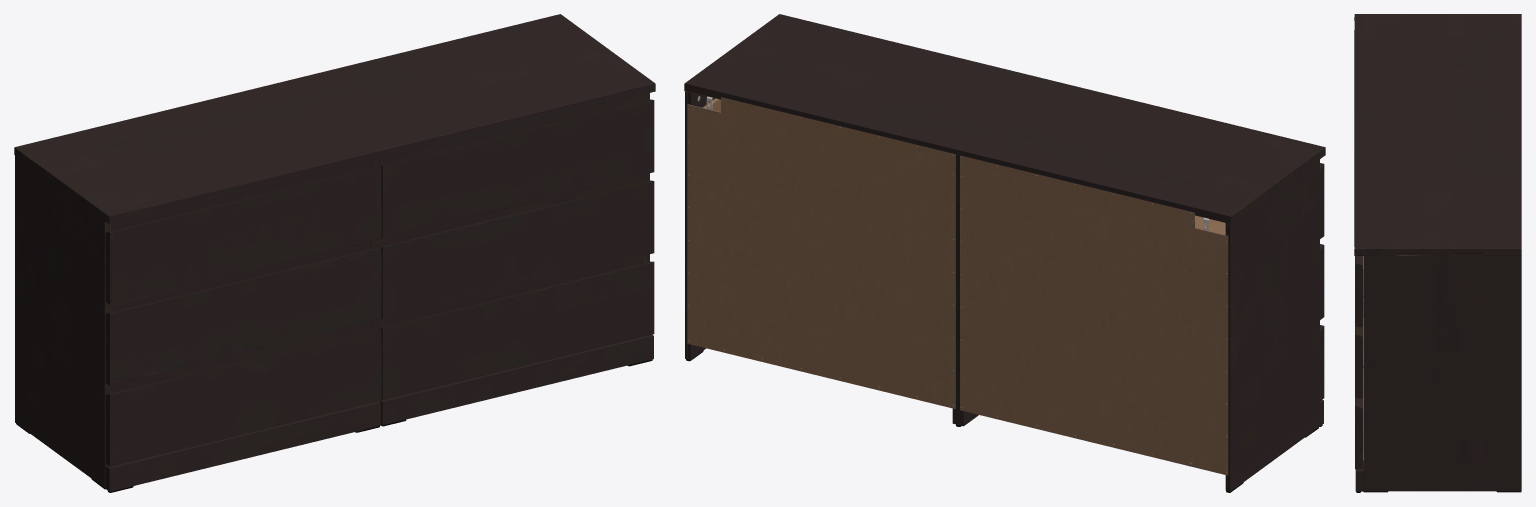
3 renders of one model, left to right at view 1: azimuth 30°, elevation 25°; view 2: azimuth 150°, elevation 25°; view 3: azimuth 270°, elevation 25°, orthographic. The views are drawn at different scales.
Parts seen in each view (by area): view 1: 90354624-MALM001; view 2: 90354624-MALM001; view 3: 90354624-MALM001.
Part boxes in pixels (x1,y1,x2,y2): 90354624-MALM001: (14, 14, 655, 492); 90354624-MALM001: (684, 14, 1325, 492); 90354624-MALM001: (1354, 14, 1521, 492).
Bounding box in the file's own units: 1.6 × 0.7792 × 0.4824.
Materials: 1 (1 with a texture image).
